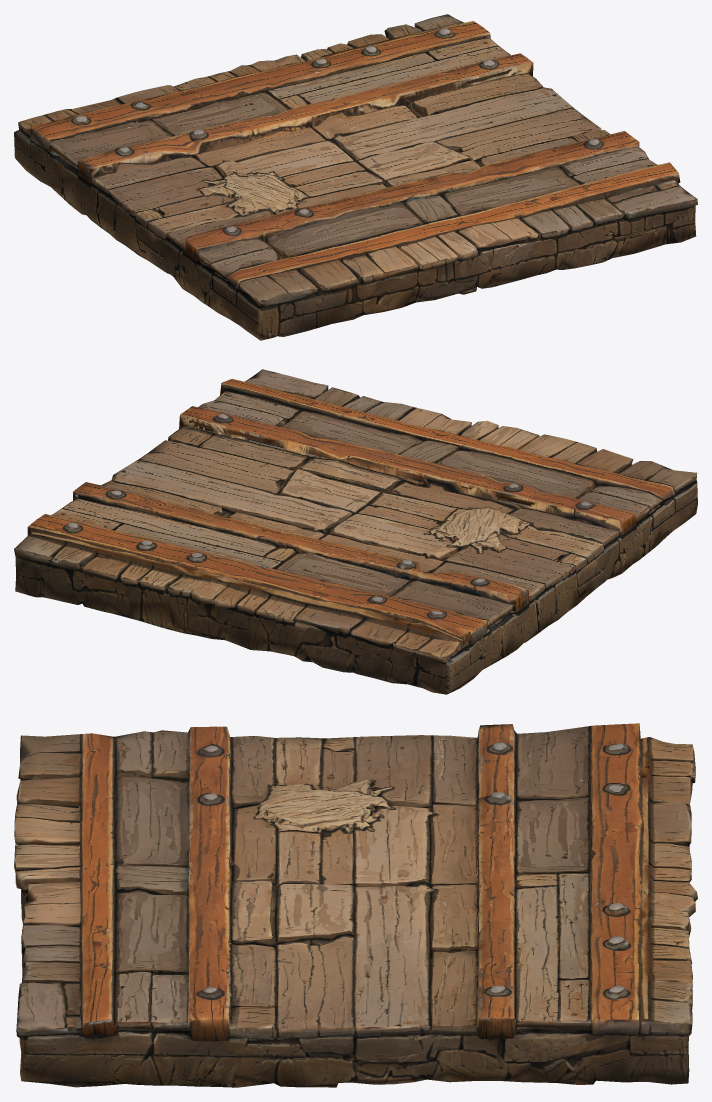
File: Settle_RoofPatch_Planks.fbx
The picture shows the model from 3 angles, top to bottom: view 1: azimuth 30°, elevation 25°; view 2: azimuth 150°, elevation 25°; view 3: azimuth 270°, elevation 25°; orthographic projection. The views are drawn at different scales.
Visible parts, largest first — view 1: texture_mapping; view 2: texture_mapping; view 3: texture_mapping.
Boxes of the visible parts, box(x1,y1,x2,y2) form: texture_mapping: box(14, 14, 697, 340); texture_mapping: box(14, 369, 697, 694); texture_mapping: box(14, 723, 697, 1087).
Bounding box in the file's own units: 1 × 0.9809 × 0.1345.
1 material, 1 textured.
